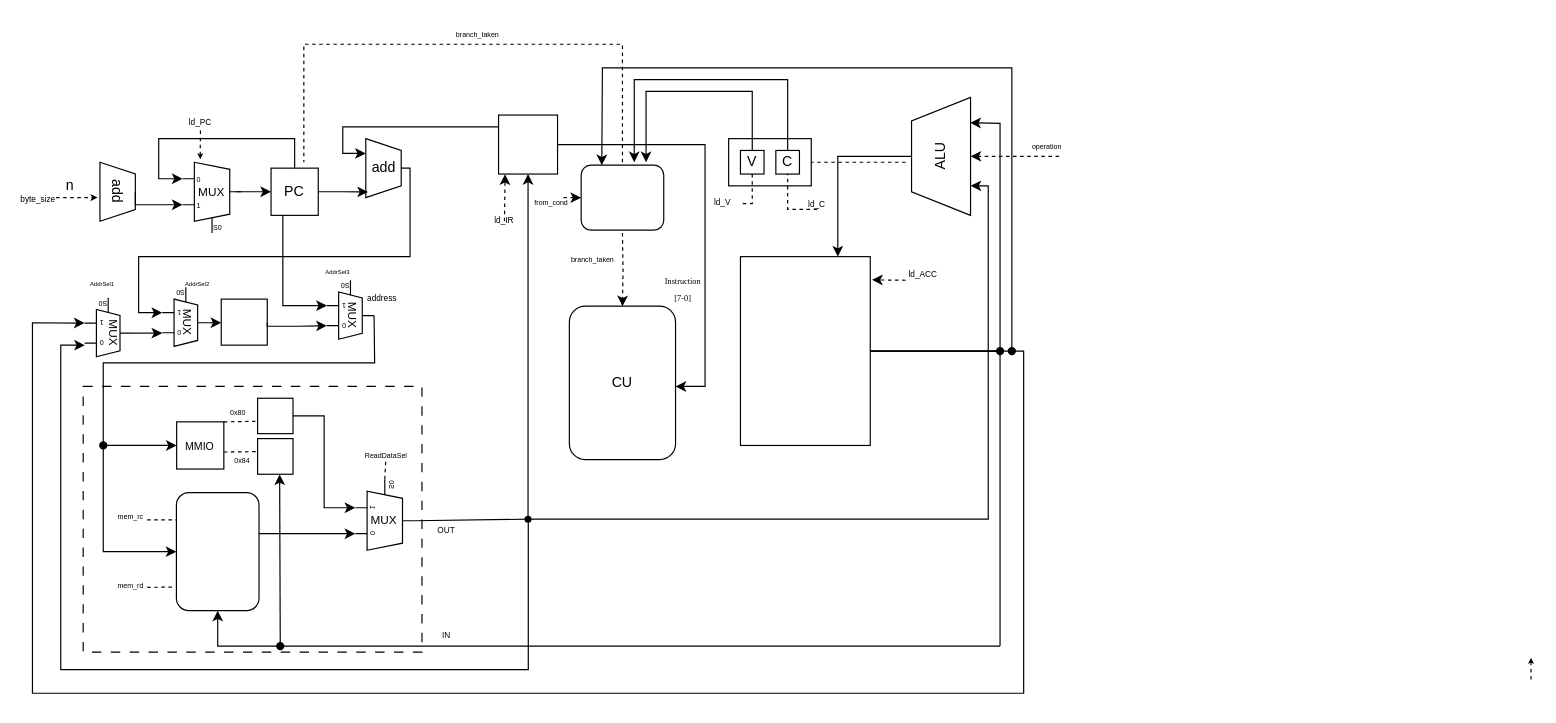
Image size: 1556x723. Some labels were removed from this diagram. Each missing label, with the box of its shape:
ACC: (739, 255, 870, 445)
AR: (220, 298, 267, 345)
BCU: (580, 164, 664, 230)
input: (256, 397, 293, 434)
IR: (497, 114, 558, 174)
MEM: (175, 491, 259, 611)
output: (256, 437, 293, 474)
